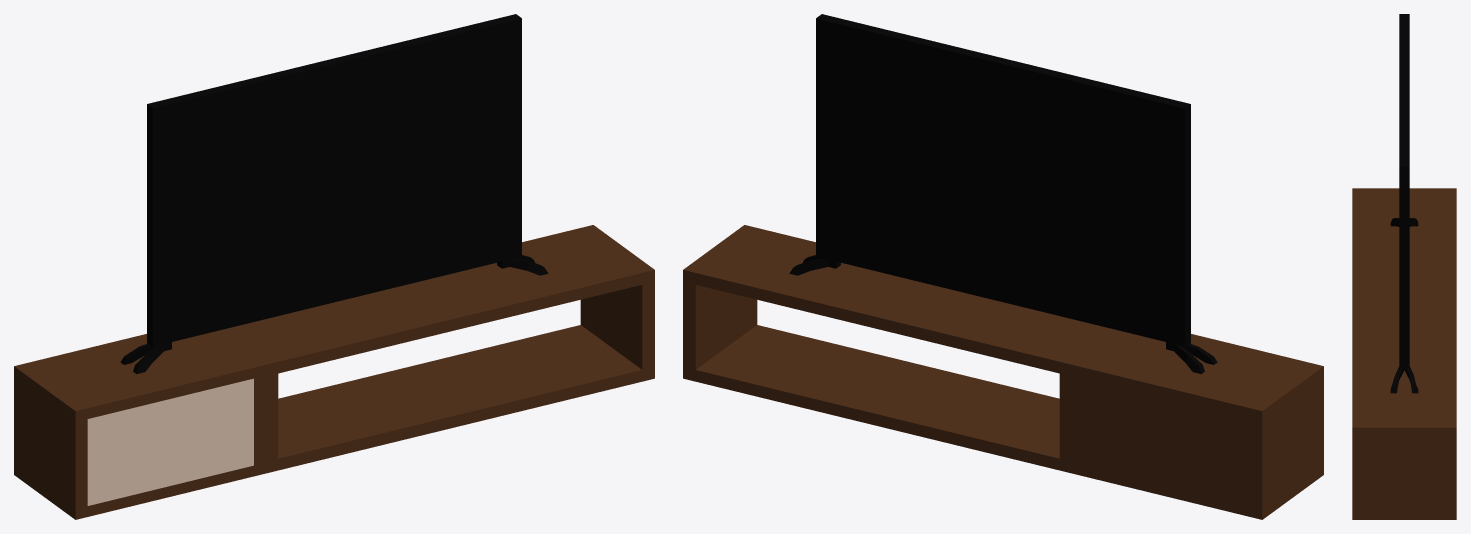
File: television.fbx
3 views of the same model, side by side, from view 1: azimuth 30°, elevation 25°; view 2: azimuth 150°, elevation 25°; view 3: azimuth 270°, elevation 25° (orthographic). The views are drawn at different scales.
Parts seen in each view (by area): view 1: Cube.001, Cube.002, Cube, Cube.003; view 2: Cube, Cube.002; view 3: Cube.002, Cube.
Boxes of the visible parts, x1,y1,x2,y2 form: Cube.001: (162,30,512,334); Cube.002: (14,225,654,519); Cube: (120,14,548,374); Cube.003: (87,378,253,505); Cube: (789,14,1217,374); Cube.002: (683,225,1323,519); Cube.002: (1352,188,1456,519); Cube: (1390,14,1418,393).
Bounding box in the file's own units: 371 × 224 × 68.2.
